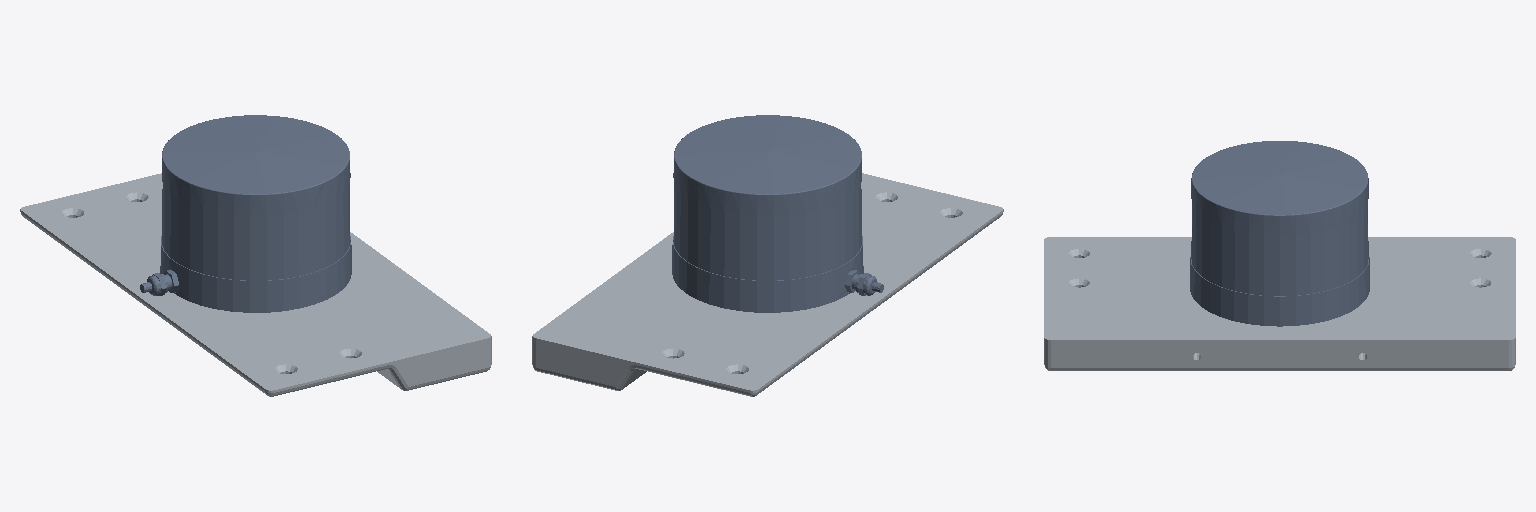
URDF robot description (scout_cdt_payload):
<?xml version="1.0" ?>
<!-- =================================================================================== -->
<!-- |    This document was autogenerated by xacro from C:\Users\ajay\Documents\Github\cdt_ws\src\payload_urdf\urdf\payload.urdf.xacro | -->
<!-- |    EDITING THIS FILE BY HAND IS NOT RECOMMENDED                                 | -->
<!-- =================================================================================== -->
<!-- Standalone payload preview. The combined robot defines its root in Scout. -->
<robot name="scout_cdt_payload">
  <link name="base_link"/>
  <link name="cdt_sensor_mount">
    <visual name="sensor_mount">
      <origin rpy="0 0 0" xyz="0 0 0"/>
      <geometry>
        <mesh filename="package://payload_urdf/meshes/sensor_mount.stl"/>
      </geometry>
      <material name="cdt_mount_grey">
        <color rgba="0.70 0.73 0.76 1"/>
      </material>
    </visual>
    <collision name="sensor_mount">
      <origin rpy="0 0 0" xyz="0 0 0"/>
      <geometry>
        <mesh filename="package://payload_urdf/meshes/sensor_mount.stl"/>
      </geometry>
    </collision>
  </link>
  <joint name="base_to_cdt_sensor_mount" type="fixed">
    <parent link="base_link"/>
    <child link="cdt_sensor_mount"/>
    <origin rpy="0 0 0" xyz="0.190000 0 0.068999169119"/>
  </joint>
  <!-- ROS driver convention: X forward, Y left, Z up. Native Velodyne
         axes were converted when the corrected mesh was generated. -->
  <link name="velodyne">
    <visual name="vlp16">
      <origin rpy="0 0 0" xyz="0 0 0"/>
      <geometry>
        <mesh filename="package://payload_urdf/meshes/vlp16.stl"/>
      </geometry>
      <material name="cdt_lidar_grey">
        <color rgba="0.45 0.50 0.58 1"/>
      </material>
    </visual>
    <collision name="vlp16">
      <origin rpy="0 0 0" xyz="0 0 0"/>
      <geometry>
        <mesh filename="package://payload_urdf/meshes/vlp16.stl"/>
      </geometry>
    </collision>
  </link>
  <joint name="base_to_velodyne" type="fixed">
    <parent link="base_link"/>
    <child link="velodyne"/>
    <origin rpy="0 0 0" xyz="0.190000 0 0.111718169119"/>
  </joint>
  <!-- Camera mount at left IR/depth datum, body axes forward/left/up.
         The live RealSense driver owns calibrated internal sensor transforms. -->
  <link name="d455_link">
    <visual name="d455_housing">
      <origin rpy="0 0 0" xyz="0 0 0"/>
      <geometry>
        <mesh filename="package://payload_urdf/meshes/d455.stl"/>
      </geometry>
      <material name="cdt_camera_grey">
        <color rgba="0.35 0.37 0.40 1"/>
      </material>
    </visual>
    <collision name="d455_housing">
      <origin rpy="0 0 0" xyz="-0.008350 -0.047500 0"/>
      <geometry>
        <box size="0.026 0.124 0.029"/>
      </geometry>
    </collision>
  </link>
  <joint name="base_to_d455" type="fixed">
    <parent link="base_link"/>
    <child link="d455_link"/>
    <origin rpy="0 0 0" xyz="0.281350 0.047500 0.063499169119"/>
  </joint>
  <link name="d455_depth_optical_frame"/>
  <joint name="base_to_d455_depth_optical" type="fixed">
    <parent link="base_link"/>
    <child link="d455_depth_optical_frame"/>
    <origin rpy="-1.5707963267948966 0 -1.5707963267948966" xyz="0.281350 0.047500 0.063499169119"/>
  </joint>
  <link name="d455_color_optical_frame"/>
  <joint name="base_to_d455_color_optical" type="fixed">
    <parent link="base_link"/>
    <child link="d455_color_optical_frame"/>
    <origin rpy="-1.5707963267948966 0 -1.5707963267948966" xyz="0.281350 -0.011500 0.063499169119"/>
  </joint>
  <!-- Mechanical IMU datum, not a calibrated IMU-data TF. In the combined
         robot it uses a cdt_ name distinct from any future driver-owned frame. -->
  <link name="d455_imu_optical_frame"/>
  <joint name="base_to_d455_imu_optical_frame" type="fixed">
    <parent link="base_link"/>
    <child link="d455_imu_optical_frame"/>
    <origin rpy="-1.5707963267948966 0 -1.5707963267948966" xyz="0.265330 0.017280 0.070899169119"/>
  </joint>
</robot>

--- What the picture shows (computed from the rendered views, not written in the file) ---
3 views of the same robot in one strip: view 1: azimuth 30°, elevation 25°; view 2: azimuth 150°, elevation 25°; view 3: azimuth 270°, elevation 25° (orthographic).
Model scout_cdt_payload with 7 links and 6 joints (6 fixed), rooted at base_link, posed all joints at 0.
Links seen in each view (by area): view 1: cdt_sensor_mount, velodyne; view 2: cdt_sensor_mount, velodyne; view 3: cdt_sensor_mount, velodyne.
Link boxes in pixels (left/top/right/bottom): cdt_sensor_mount: left=20, top=173, right=491, bottom=396; velodyne: left=140, top=115, right=351, bottom=312; cdt_sensor_mount: left=532, top=173, right=1003, bottom=396; velodyne: left=672, top=115, right=883, bottom=312; cdt_sensor_mount: left=1044, top=237, right=1515, bottom=370; velodyne: left=1190, top=141, right=1369, bottom=326.
Bounding box of the posed robot: 0.1408 × 0.27 × 0.0926 m (x, y, z).
2 mesh visuals loaded from 3 distinct referenced files (2 binary STL); not drawn: 1 (reference not matched to a file when rendering).
